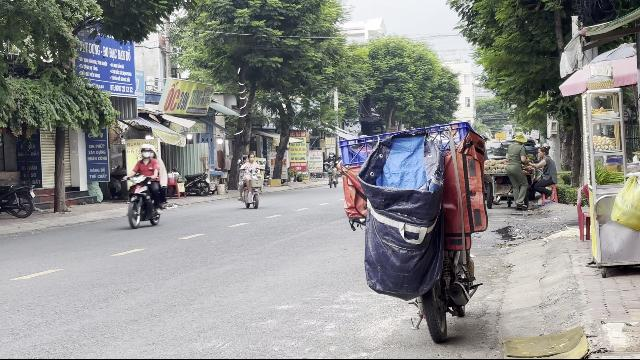helmet: (140, 143, 154, 159)
motorcyclist: (124, 143, 168, 229)
